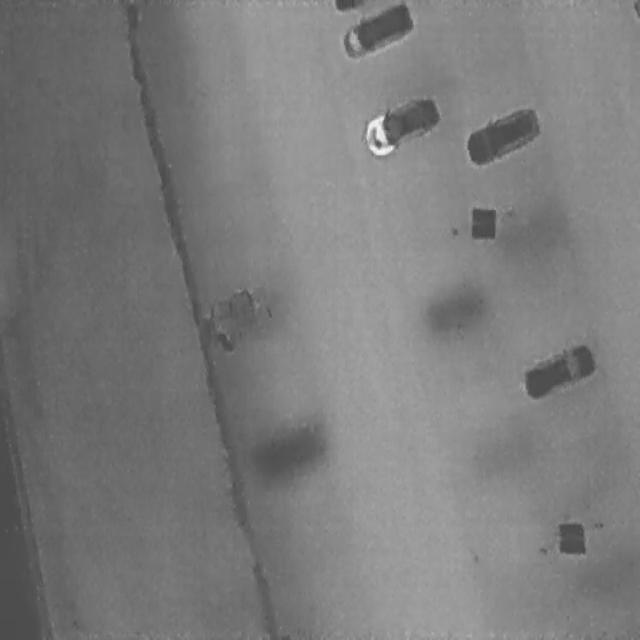Car: (358, 82, 443, 162), (460, 96, 543, 170), (518, 336, 597, 405), (337, 0, 415, 62)
